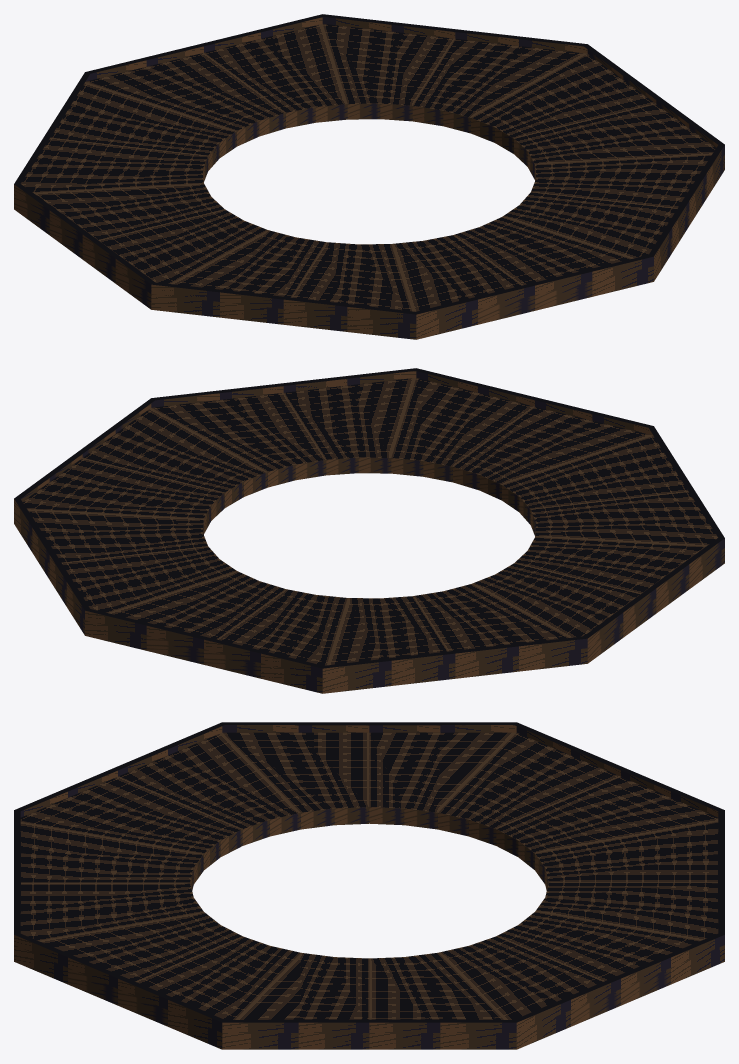
The model's file is PUE-05_Plataforma_central.gltf.
The picture shows the model from 3 angles, top to bottom: view 1: azimuth 30°, elevation 25°; view 2: azimuth 150°, elevation 25°; view 3: azimuth 270°, elevation 25°; orthographic projection. The views are drawn at different scales.
Parts seen in each view (by area): view 1: PUE-05_Plataforma_central-col; view 2: PUE-05_Plataforma_central-col; view 3: PUE-05_Plataforma_central-col.
Boxes of the visible parts, x1=… form: PUE-05_Plataforma_central-col: x1=14, y1=14, x2=724, y2=339; PUE-05_Plataforma_central-col: x1=14, y1=368, x2=724, y2=693; PUE-05_Plataforma_central-col: x1=14, y1=722, x2=724, y2=1049.
Size of the model in its own units: 10 by 0.64 by 10.
Materials: 1 (1 with a texture image).
